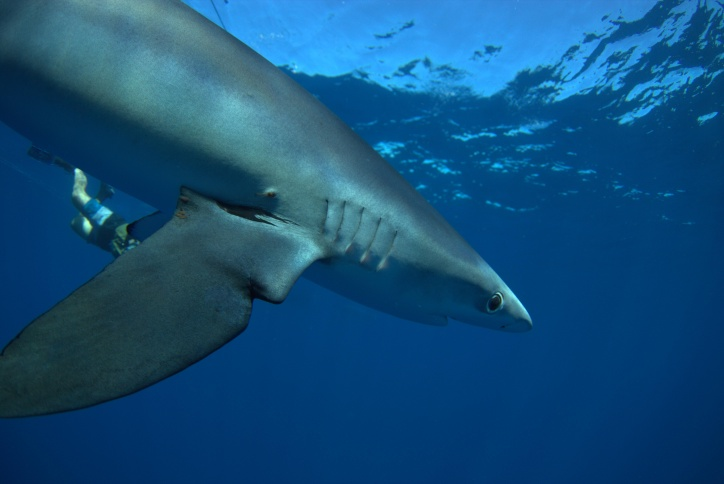Azul: (1, 2, 567, 442)
